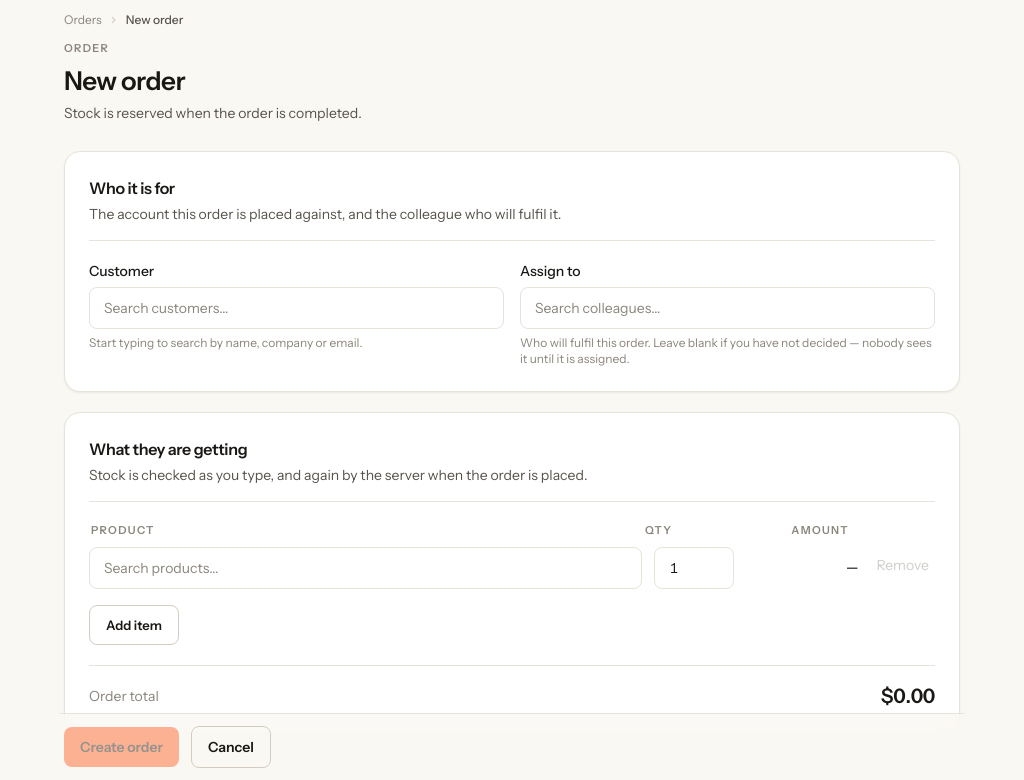
Test: OrderForm › totals the order from the chosen product price and quantity
Type "karachi" into the dropdown labelled "Customer" at x=296, y=308, box left=89, top=287, right=504, bottom=329
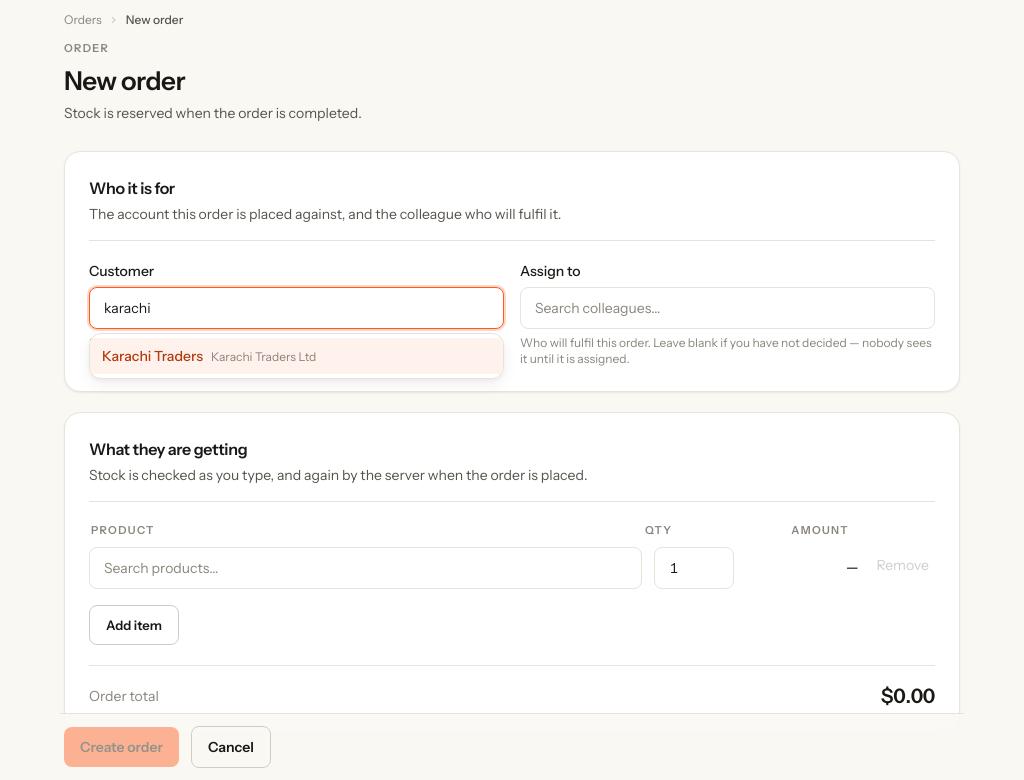
Click the option "Karachi Traders" at x=296, y=356, box left=90, top=338, right=503, bottom=374
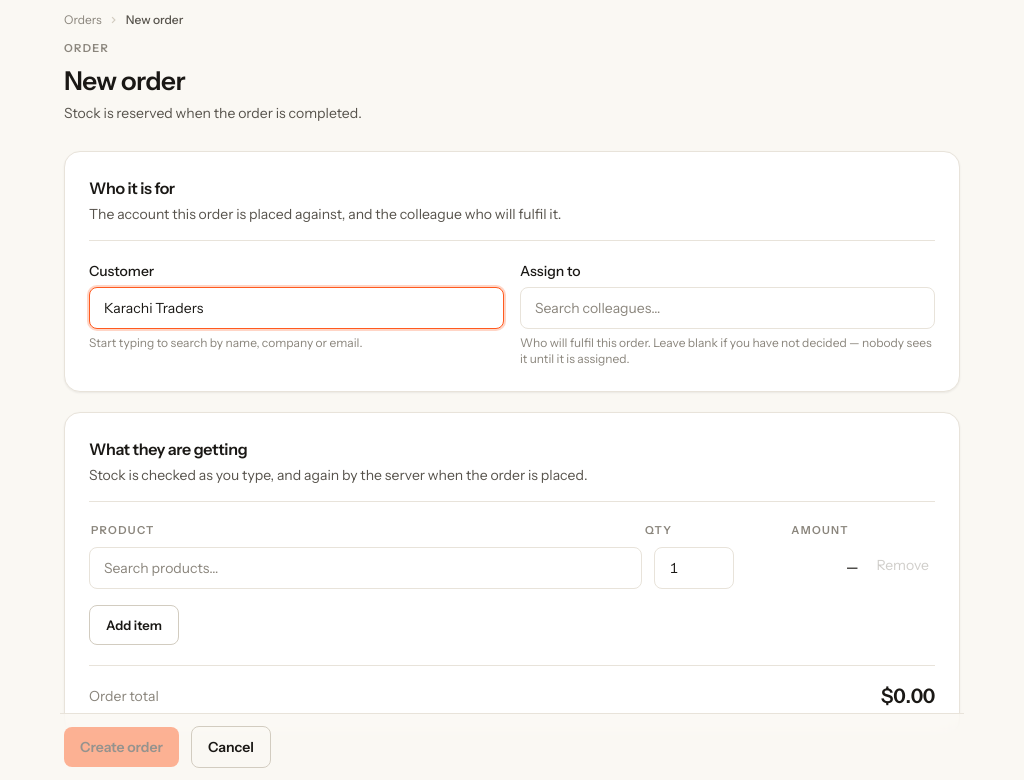
Type "widget" into the dropdown with placeholder "Search products…" at x=366, y=568, box left=89, top=546, right=642, bottom=588
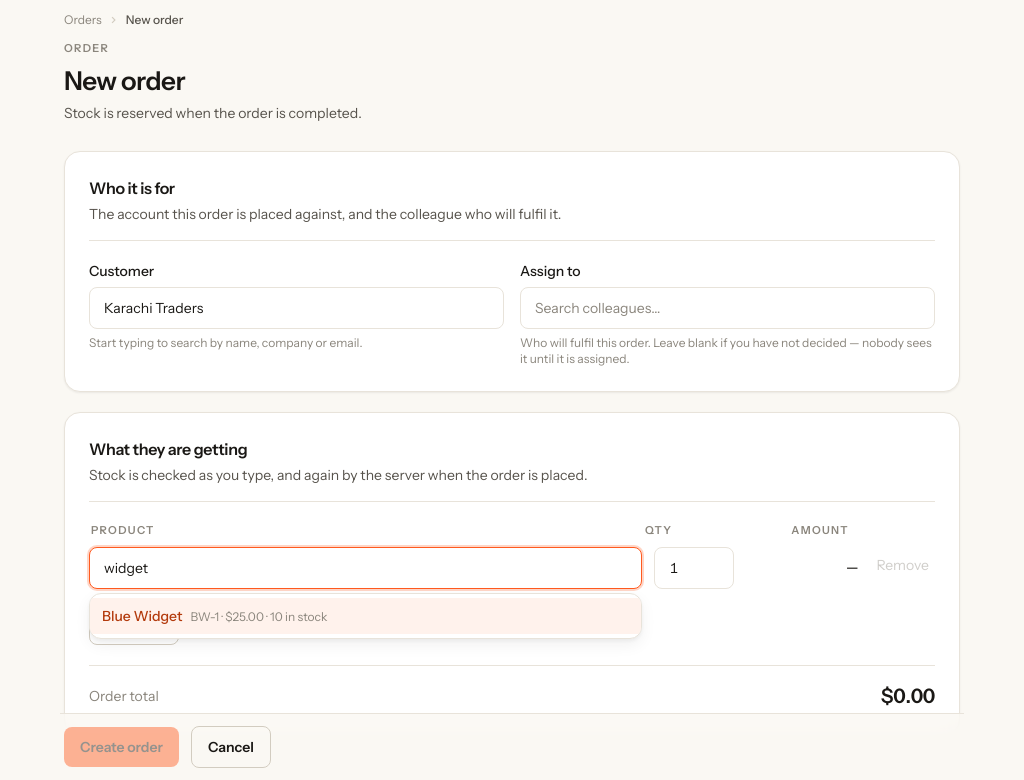
Click the option "Blue Widget" at x=142, y=616, box left=90, top=598, right=641, bottom=634
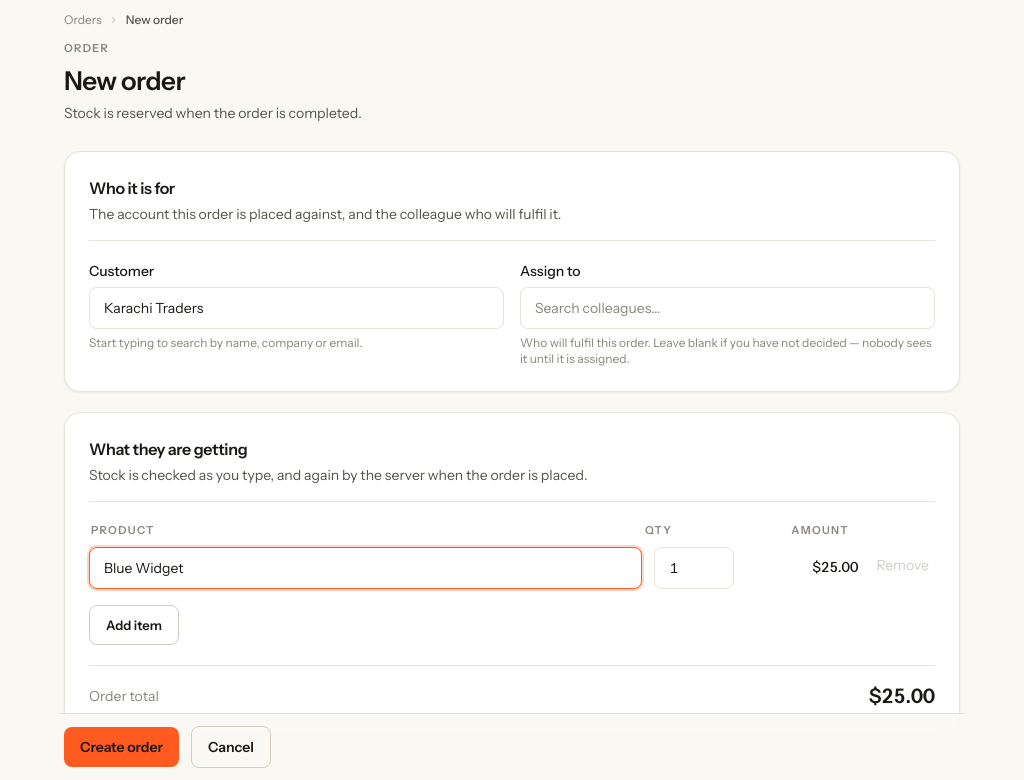
Replace the text in the number field with "4" at x=694, y=568, box left=654, top=546, right=734, bottom=588
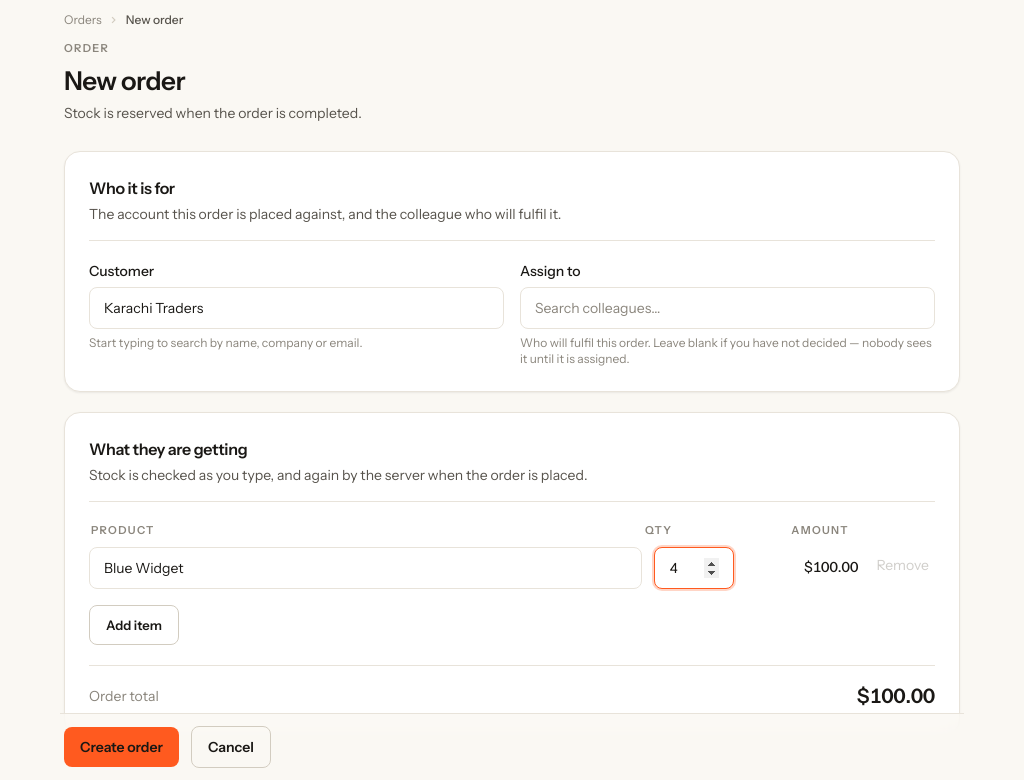
Expected: the text "$100.00" in the row of "Order total" is shown, left=857, top=684, right=935, bottom=708
